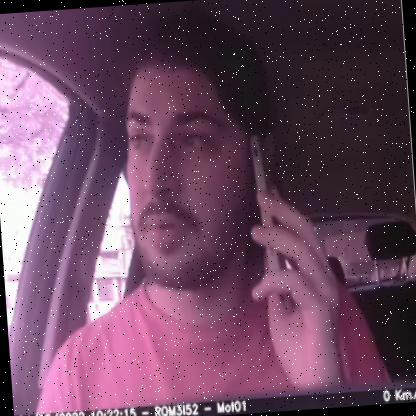phone: (237, 126, 311, 328)
